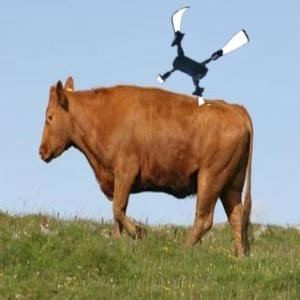drone: (152, 5, 252, 105)
